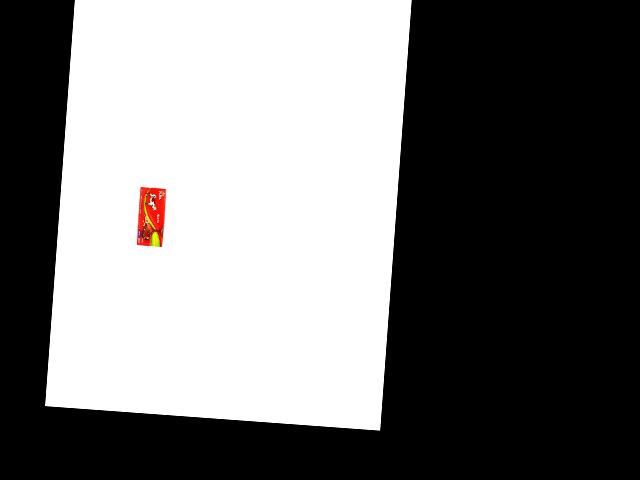chocolate: (130, 182, 168, 248)
